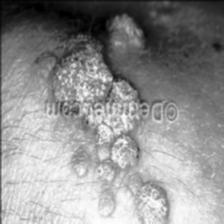Toxin: (53, 15, 139, 101), (84, 122, 140, 176), (134, 182, 171, 224)
